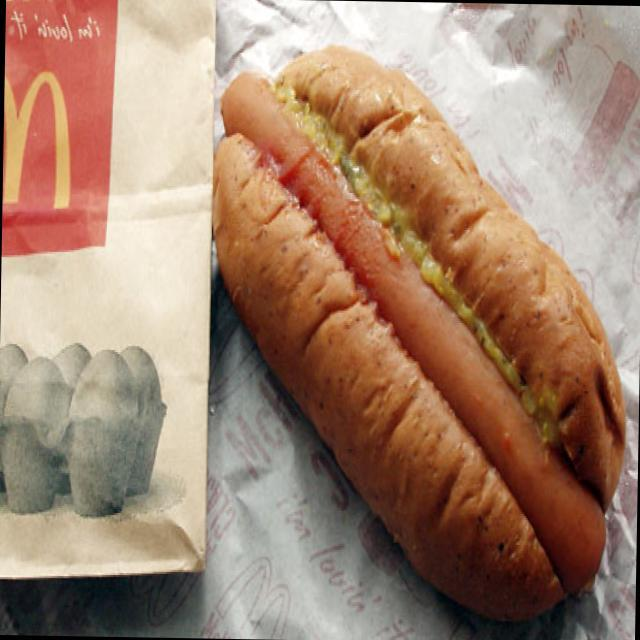Hot Dog: (204, 37, 629, 640)
